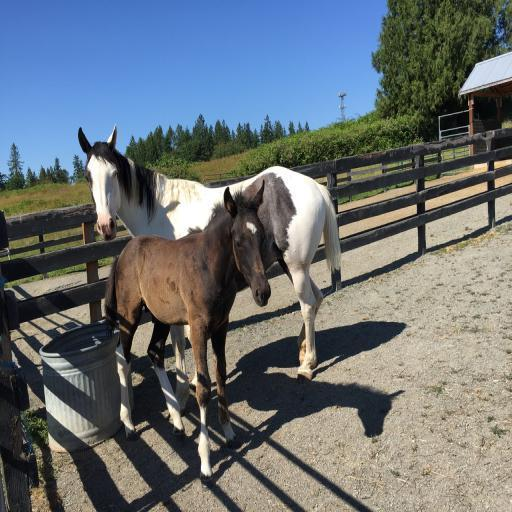horse: (76, 125, 341, 386), (102, 180, 268, 498)
